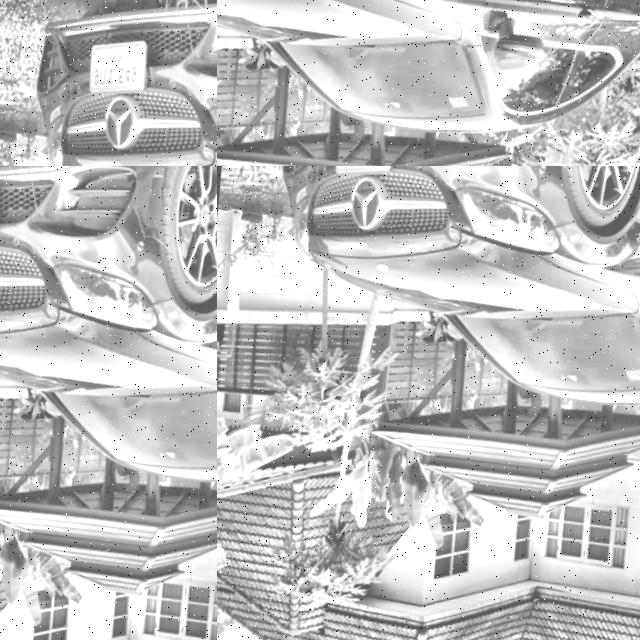license-plate: (330, 166, 392, 185)
